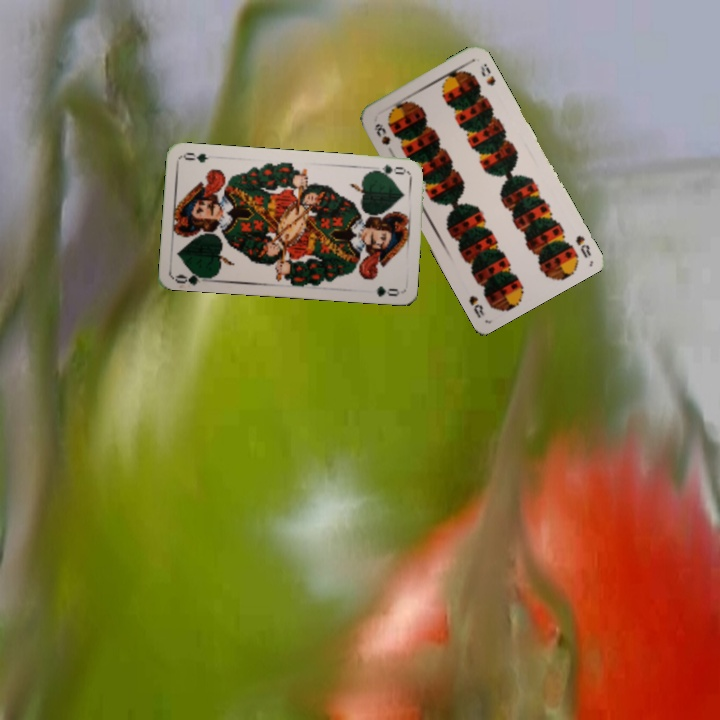GO: (172, 267, 213, 287), (369, 160, 409, 179)
S8: (370, 119, 393, 148), (571, 231, 593, 260)
